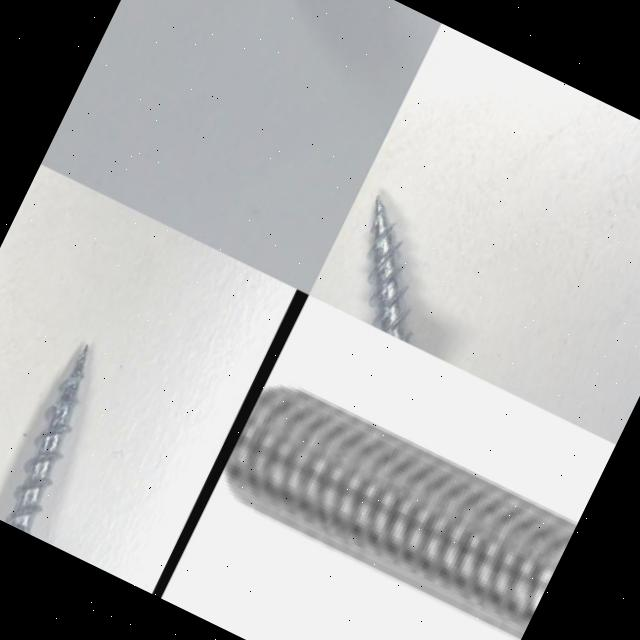Screw: (224, 380, 579, 639), (6, 347, 87, 534), (366, 196, 410, 344)
